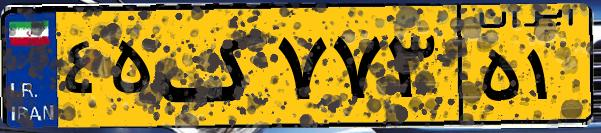1: (525, 38, 570, 115)
3: (385, 28, 445, 110)
4: (57, 26, 110, 100)
5: (475, 38, 525, 113), (110, 28, 158, 98)
7: (270, 28, 330, 110), (330, 28, 385, 110)
ک: (158, 12, 270, 120)
